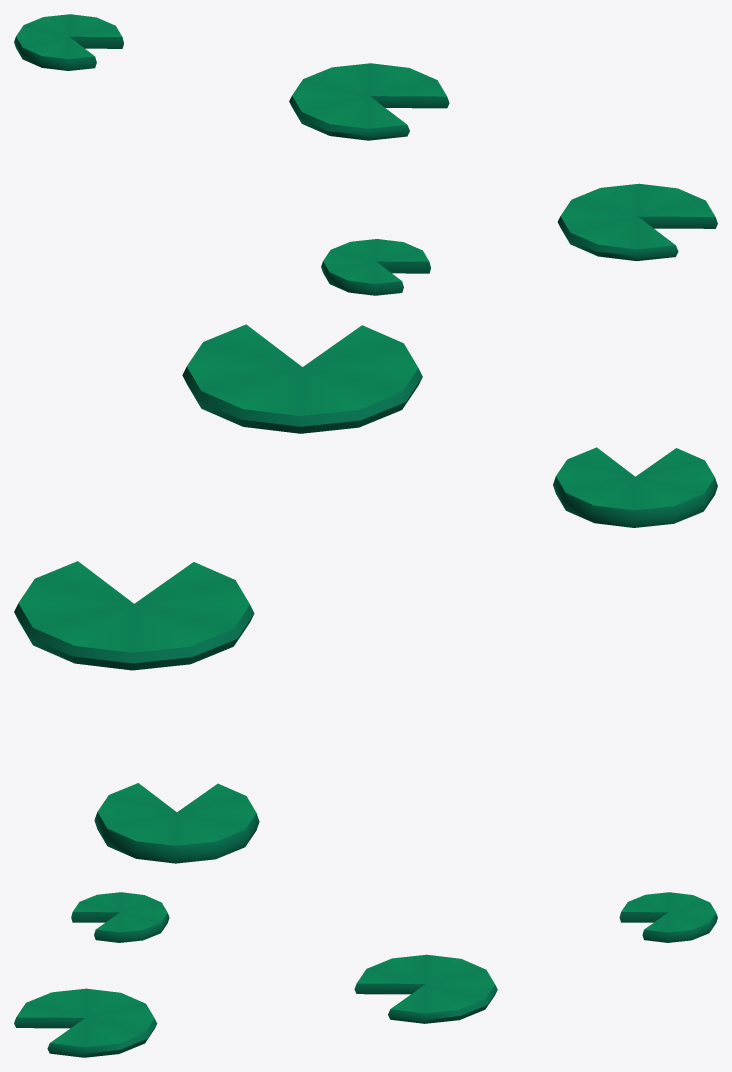
The model's file is water_plants_5.glb.
3 renders of one model, top to bottom at view 1: azimuth 30°, elevation 25°; view 2: azimuth 150°, elevation 25°; view 3: azimuth 270°, elevation 25°, orthographic. The views are drawn at different scales.
Parts seen in each view (by area): view 1: waterlily_B.001, waterlily_B, waterlily_A, waterlily_A.001; view 2: waterlily_B, waterlily_B.001, waterlily_A, waterlily_A.001; view 3: waterlily_B.001, waterlily_B, waterlily_A, waterlily_A.001.
Part boxes in pixels (x1,y1,x2,y2): waterlily_B.001: (289,63,449,140); waterlily_B: (557,183,717,260); waterlily_A: (321,239,430,295); waterlily_A.001: (14,14,123,70); waterlily_B: (182,324,422,433); waterlily_B.001: (14,561,254,670); waterlily_A: (553,447,717,527); waterlily_A.001: (94,783,259,863); waterlily_B.001: (354,954,497,1023); waterlily_B: (14,988,157,1057); waterlily_A: (71,892,169,942); waterlily_A.001: (619,892,717,942).
Bounding box in the file's own units: 0.5456 × 0.0171 × 1.03.
4 materials, 4 textured.
